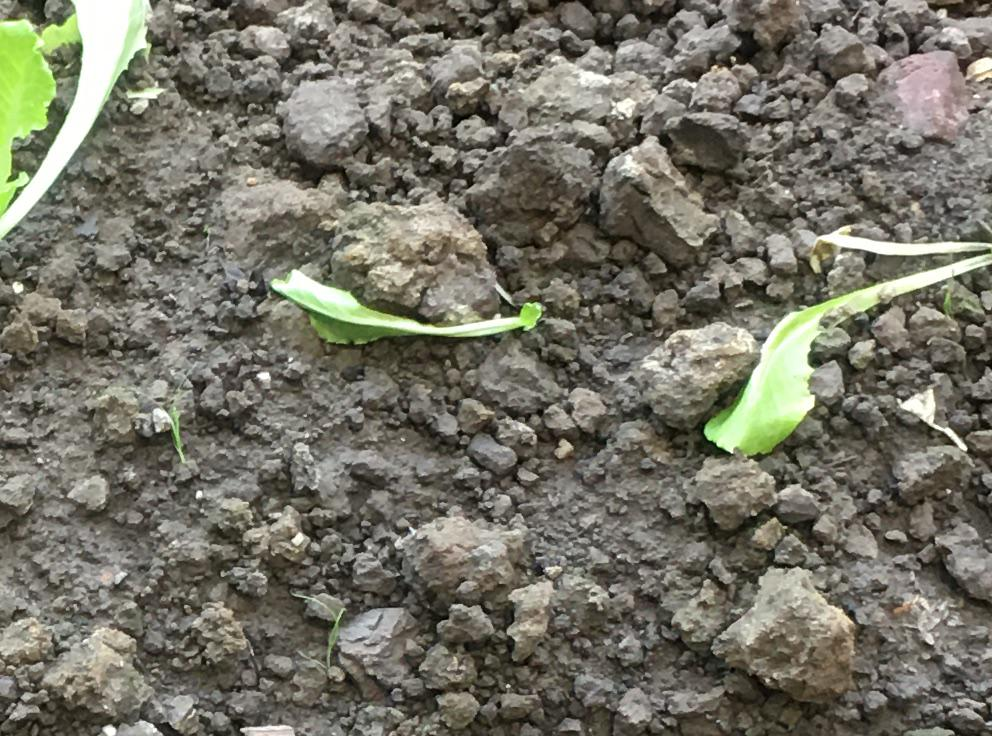block: (334, 195, 508, 333), (717, 564, 855, 714), (599, 135, 712, 269), (643, 325, 760, 433), (390, 515, 524, 609), (52, 630, 149, 725)
